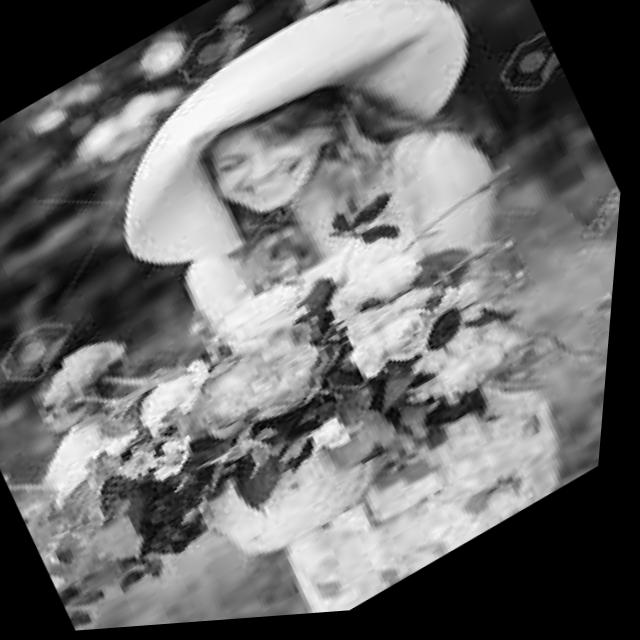Flower: (164, 309, 350, 472), (315, 229, 460, 350), (14, 405, 143, 517), (23, 320, 152, 425), (332, 302, 458, 405), (136, 429, 208, 506)
